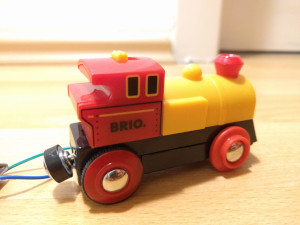brio: (36, 49, 260, 209)
